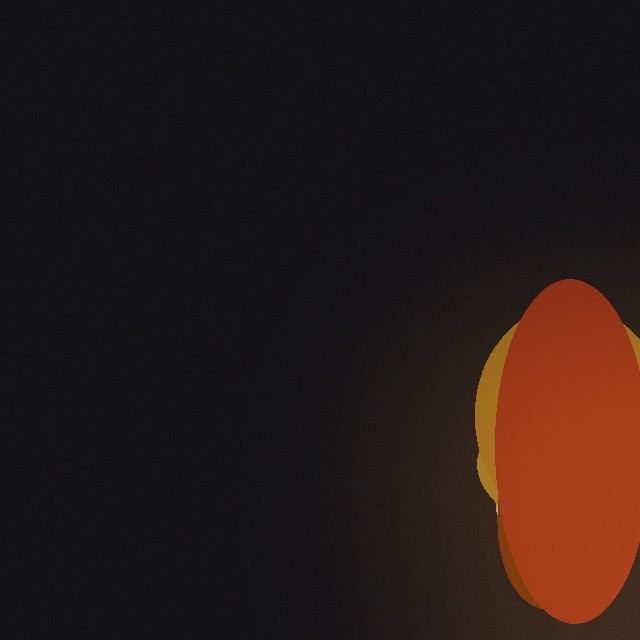fire: (516, 366, 628, 592)
